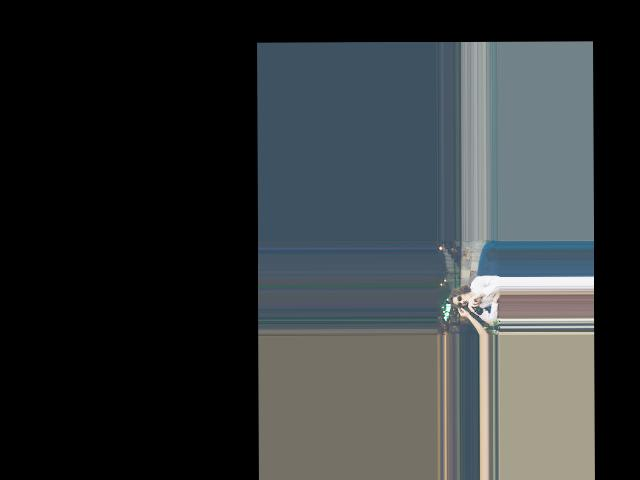beer: (464, 301, 484, 316)
